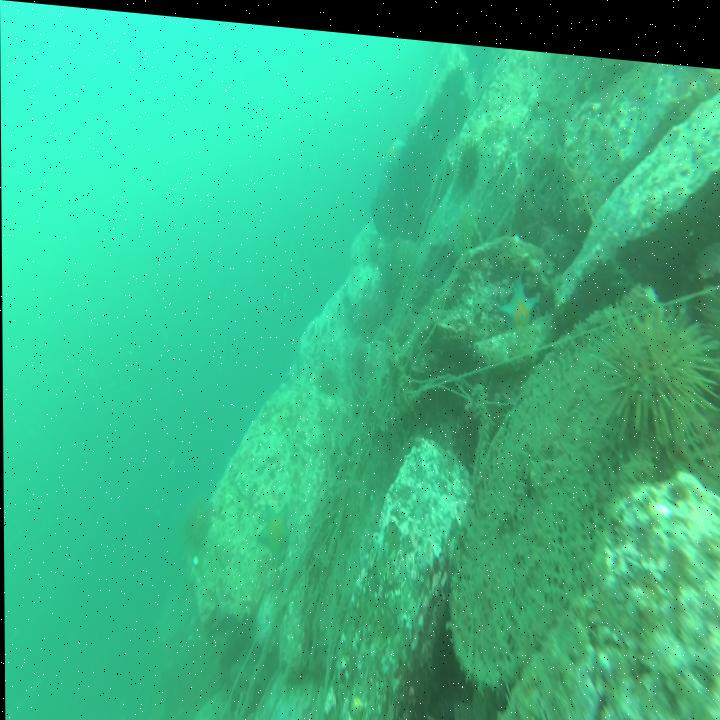echinus: (601, 287, 718, 454), (444, 194, 479, 254), (178, 501, 209, 545), (460, 135, 478, 178), (315, 359, 340, 388)
starfish: (497, 260, 540, 331), (257, 497, 295, 545)
